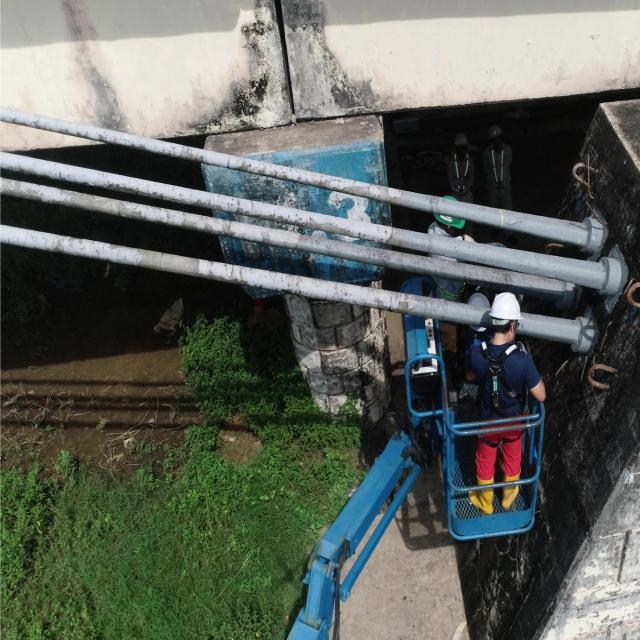crack: (228, 264, 234, 278), (159, 252, 164, 266), (435, 197, 439, 213), (239, 267, 243, 281), (388, 297, 392, 310), (116, 250, 119, 263), (296, 277, 300, 286), (113, 136, 117, 143), (227, 159, 230, 168), (118, 208, 121, 216), (358, 231, 361, 238), (59, 171, 61, 180), (269, 272, 271, 277)
